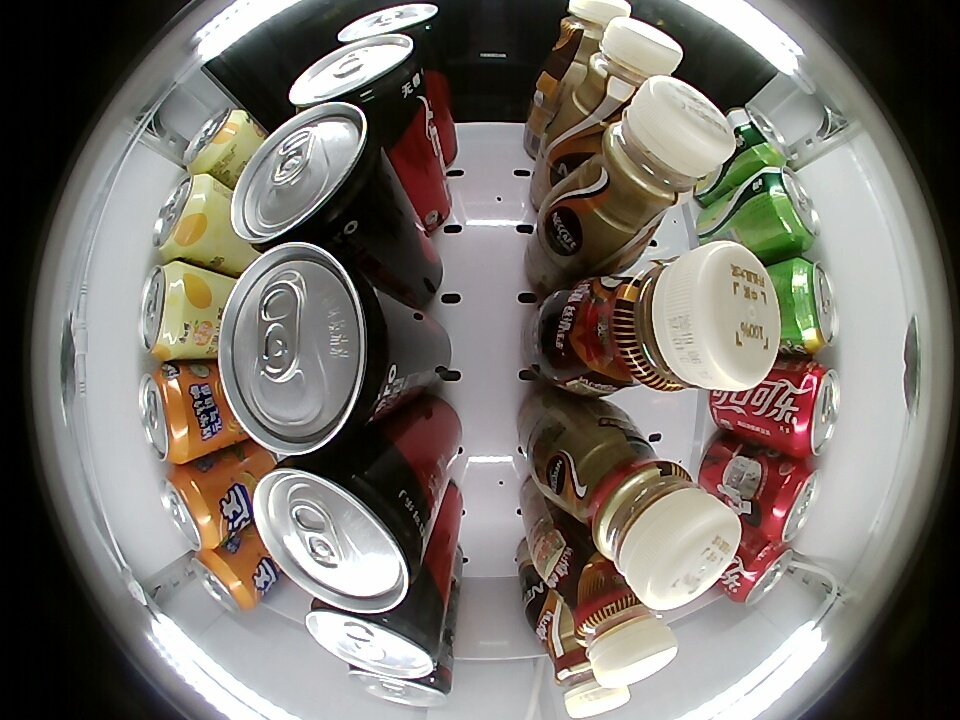fenda: (137, 365, 197, 464), (158, 468, 221, 551), (192, 549, 255, 612)
kafei: (553, 425, 742, 611), (571, 242, 780, 396), (567, 73, 737, 257), (564, 561, 678, 688), (567, 18, 682, 135), (545, 0, 631, 83), (551, 639, 630, 719)
kele: (781, 361, 842, 457), (758, 465, 821, 547), (730, 538, 794, 608)
lingdukele: (217, 242, 404, 456), (253, 452, 433, 615), (230, 102, 388, 251), (305, 596, 443, 679), (288, 34, 424, 116), (337, 4, 441, 58), (348, 663, 453, 707)
mangguoxiaolao: (151, 173, 220, 259), (139, 262, 194, 359), (182, 107, 252, 176)
quchenshixiangcao: (785, 258, 840, 355), (759, 167, 819, 252), (727, 103, 791, 165)
